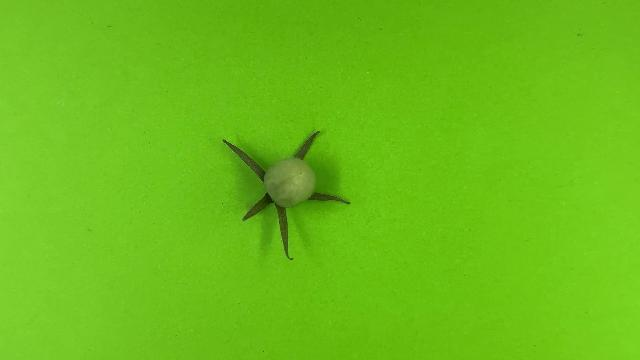Fruit Maturation: (262, 156, 317, 208)
